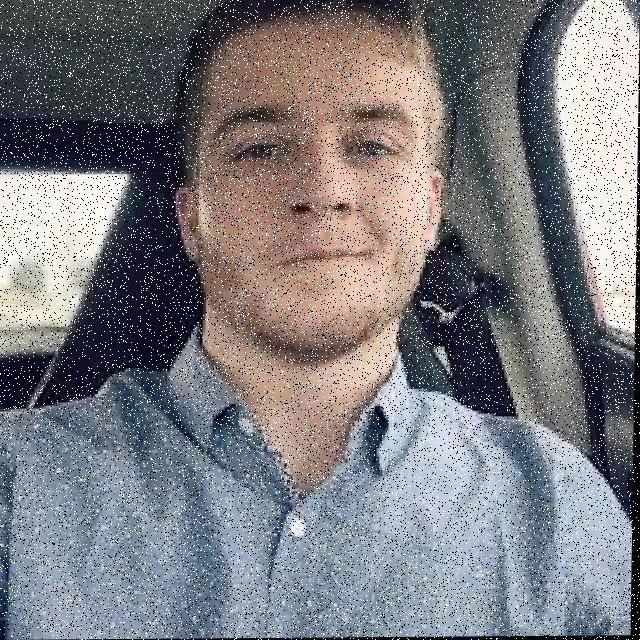noSeatbelt: (0, 288, 637, 640)
